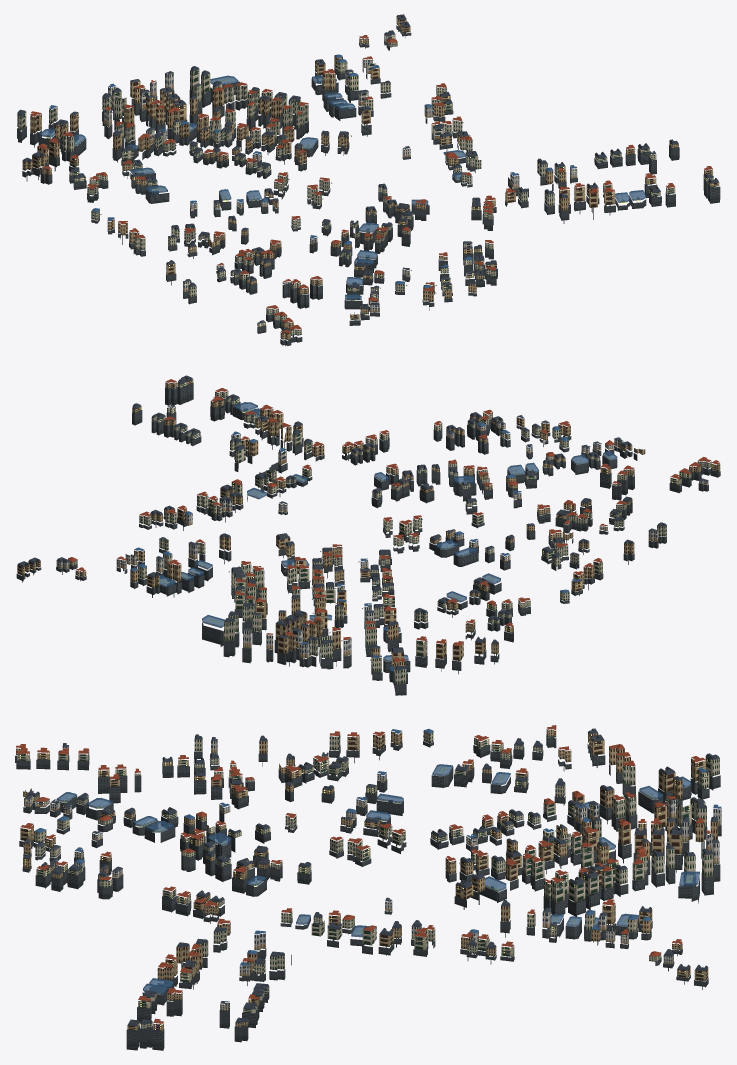
Rendered from osm_buildings_T_E00_N01_Q3.glb.
3 views of the same model, one above another, from view 1: azimuth 30°, elevation 25°; view 2: azimuth 150°, elevation 25°; view 3: azimuth 270°, elevation 25° (orthographic). The views are drawn at different scales.
Parts seen in each view (by area): view 1: OSM_PBR_T_E00_N01_Q3_foundation, OSM_PBR_T_E00_N01_Q3_wall_french_ochre, OSM_PBR_T_E00_N01_Q3_wall_cream_stucco, OSM_PBR_T_E00_N01_Q3_roof_terracotta, OSM_PBR_T_E00_N01_Q3_roof_mansard_slate, OSM_PBR_T_E00_N01_Q3_greenhouse_blend, OSM_PBR_T_E00_N01_Q3_roof_mansard_deck, OSM_PBR_T_E00_N01_Q3_wall_warm_white, OSM_PBR_T_E00_N01_Q3_wall_pastel_sand, OSM_PBR_T_E00_N01_Q3_trim_cornice, OSM_PBR_T_E00_N01_Q3_roof_mint_metal, OSM_PBR_T_E00_N01_Q3_roof_alpine_blue (+1 smaller); view 2: OSM_PBR_T_E00_N01_Q3_foundation, OSM_PBR_T_E00_N01_Q3_wall_cream_stucco, OSM_PBR_T_E00_N01_Q3_wall_french_ochre, OSM_PBR_T_E00_N01_Q3_roof_mansard_slate, OSM_PBR_T_E00_N01_Q3_roof_terracotta, OSM_PBR_T_E00_N01_Q3_greenhouse_blend, OSM_PBR_T_E00_N01_Q3_roof_mansard_deck, OSM_PBR_T_E00_N01_Q3_wall_warm_white, OSM_PBR_T_E00_N01_Q3_wall_pastel_sand, OSM_PBR_T_E00_N01_Q3_roof_mint_metal, OSM_PBR_T_E00_N01_Q3_trim_cornice, OSM_PBR_T_E00_N01_Q3_roof_alpine_blue; view 3: OSM_PBR_T_E00_N01_Q3_foundation, OSM_PBR_T_E00_N01_Q3_wall_cream_stucco, OSM_PBR_T_E00_N01_Q3_wall_french_ochre, OSM_PBR_T_E00_N01_Q3_roof_terracotta, OSM_PBR_T_E00_N01_Q3_roof_mansard_slate, OSM_PBR_T_E00_N01_Q3_greenhouse_blend, OSM_PBR_T_E00_N01_Q3_roof_mansard_deck, OSM_PBR_T_E00_N01_Q3_wall_pastel_sand, OSM_PBR_T_E00_N01_Q3_wall_warm_white, OSM_PBR_T_E00_N01_Q3_roof_mint_metal, OSM_PBR_T_E00_N01_Q3_trim_cornice, OSM_PBR_T_E00_N01_Q3_balcony_railing (+2 smaller).
Boxes of the visible parts, x1,y1,x2,y2 form: OSM_PBR_T_E00_N01_Q3_foundation: [17, 25, 720, 346]; OSM_PBR_T_E00_N01_Q3_wall_french_ochre: [22, 17, 719, 340]; OSM_PBR_T_E00_N01_Q3_wall_cream_stucco: [17, 40, 713, 335]; OSM_PBR_T_E00_N01_Q3_roof_terracotta: [30, 35, 712, 333]; OSM_PBR_T_E00_N01_Q3_roof_mansard_slate: [17, 15, 718, 323]; OSM_PBR_T_E00_N01_Q3_greenhouse_blend: [39, 75, 646, 300]; OSM_PBR_T_E00_N01_Q3_roof_mansard_deck: [19, 14, 717, 306]; OSM_PBR_T_E00_N01_Q3_wall_warm_white: [104, 34, 577, 293]; OSM_PBR_T_E00_N01_Q3_wall_pastel_sand: [108, 59, 519, 326]; OSM_PBR_T_E00_N01_Q3_trim_cornice: [18, 17, 712, 336]; OSM_PBR_T_E00_N01_Q3_roof_mint_metal: [17, 20, 718, 339]; OSM_PBR_T_E00_N01_Q3_roof_alpine_blue: [49, 54, 576, 287]; OSM_PBR_T_E00_N01_Q3_foundation: [16, 383, 720, 695]; OSM_PBR_T_E00_N01_Q3_wall_cream_stucco: [69, 381, 711, 684]; OSM_PBR_T_E00_N01_Q3_wall_french_ochre: [17, 379, 720, 678]; OSM_PBR_T_E00_N01_Q3_roof_mansard_slate: [17, 376, 708, 670]; OSM_PBR_T_E00_N01_Q3_roof_terracotta: [68, 379, 719, 662]; OSM_PBR_T_E00_N01_Q3_greenhouse_blend: [159, 402, 616, 672]; OSM_PBR_T_E00_N01_Q3_roof_mansard_deck: [19, 375, 665, 672]; OSM_PBR_T_E00_N01_Q3_wall_warm_white: [56, 424, 658, 656]; OSM_PBR_T_E00_N01_Q3_wall_pastel_sand: [116, 422, 708, 658]; OSM_PBR_T_E00_N01_Q3_roof_mint_metal: [17, 383, 718, 674]; OSM_PBR_T_E00_N01_Q3_trim_cornice: [18, 378, 714, 672]; OSM_PBR_T_E00_N01_Q3_roof_alpine_blue: [130, 422, 582, 657]; OSM_PBR_T_E00_N01_Q3_foundation: [15, 735, 721, 1050]; OSM_PBR_T_E00_N01_Q3_wall_cream_stucco: [17, 731, 719, 1028]; OSM_PBR_T_E00_N01_Q3_wall_french_ochre: [16, 729, 717, 1030]; OSM_PBR_T_E00_N01_Q3_roof_terracotta: [16, 725, 712, 1023]; OSM_PBR_T_E00_N01_Q3_roof_mansard_slate: [23, 729, 719, 1026]; OSM_PBR_T_E00_N01_Q3_greenhouse_blend: [56, 764, 699, 995]; OSM_PBR_T_E00_N01_Q3_roof_mansard_deck: [28, 728, 717, 1023]; OSM_PBR_T_E00_N01_Q3_wall_pastel_sand: [24, 743, 721, 950]; OSM_PBR_T_E00_N01_Q3_wall_warm_white: [64, 738, 719, 976]; OSM_PBR_T_E00_N01_Q3_roof_mint_metal: [16, 736, 719, 1030]; OSM_PBR_T_E00_N01_Q3_trim_cornice: [17, 729, 719, 1028]; OSM_PBR_T_E00_N01_Q3_balcony_railing: [19, 736, 710, 1028].
Bounding box in the file's own units: 998 × 82.58 × 999.
Materials: 18 (16 with a texture image).
